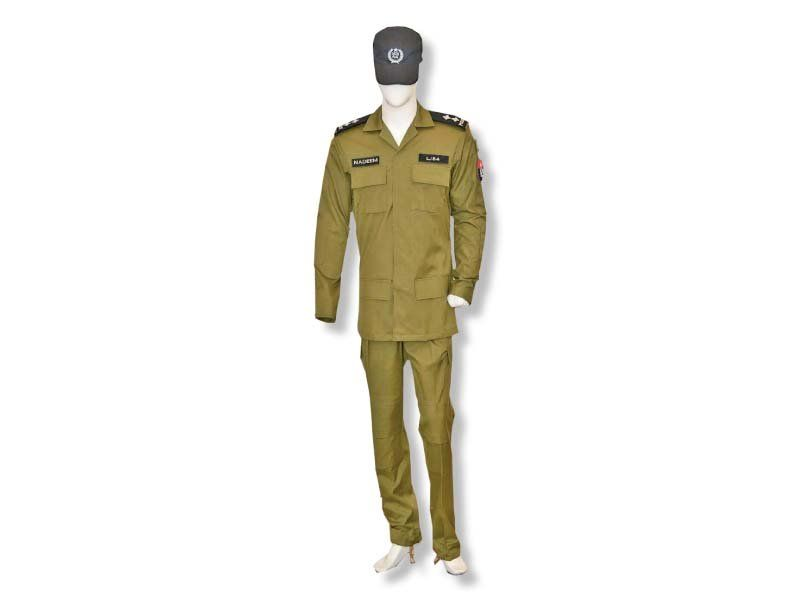uniform: (323, 109, 467, 534)
